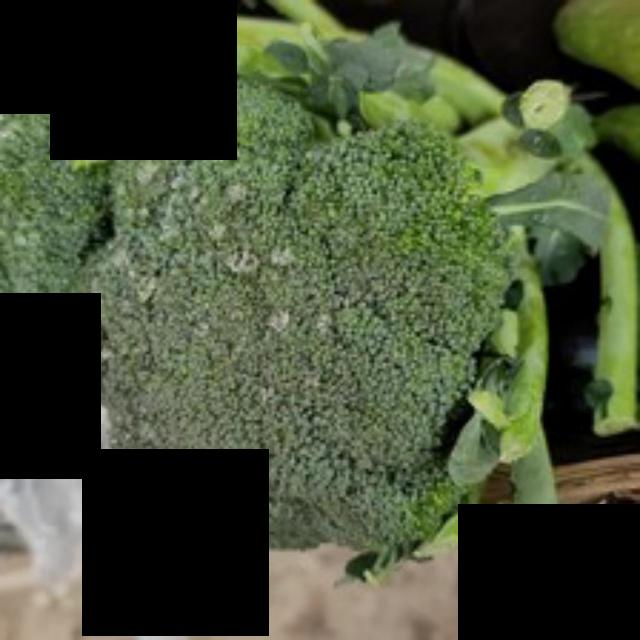broccoli: (70, 85, 558, 555)
